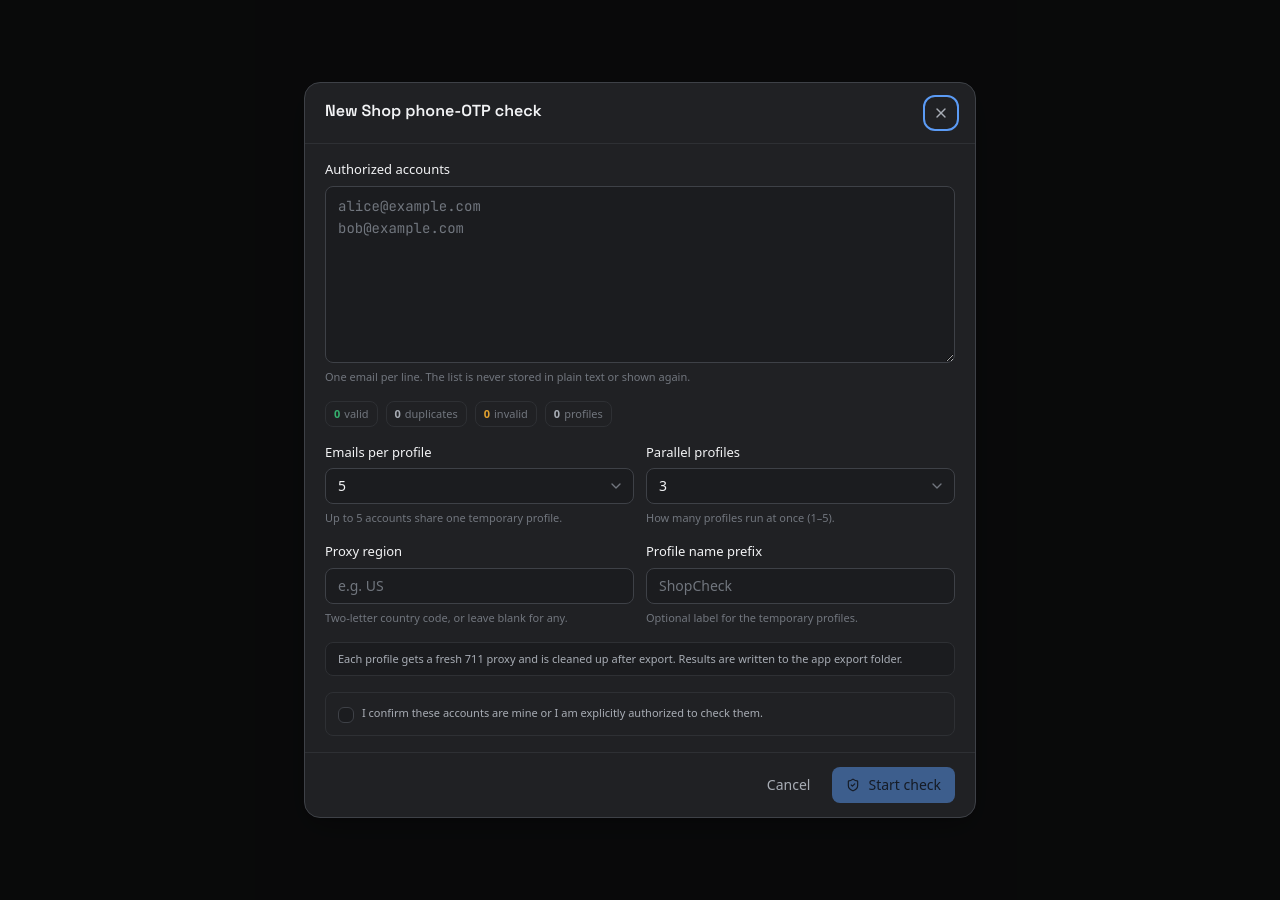
Test case: ShopCheckWizard › keeps start disabled until there are valid emails and the ack is checked
Expected: the button "Start check" is disabled, [832,767,955,803]
Type "a@b.com" into the text box labelled "Authorized accounts" at [640, 274], box [325,186,955,363]
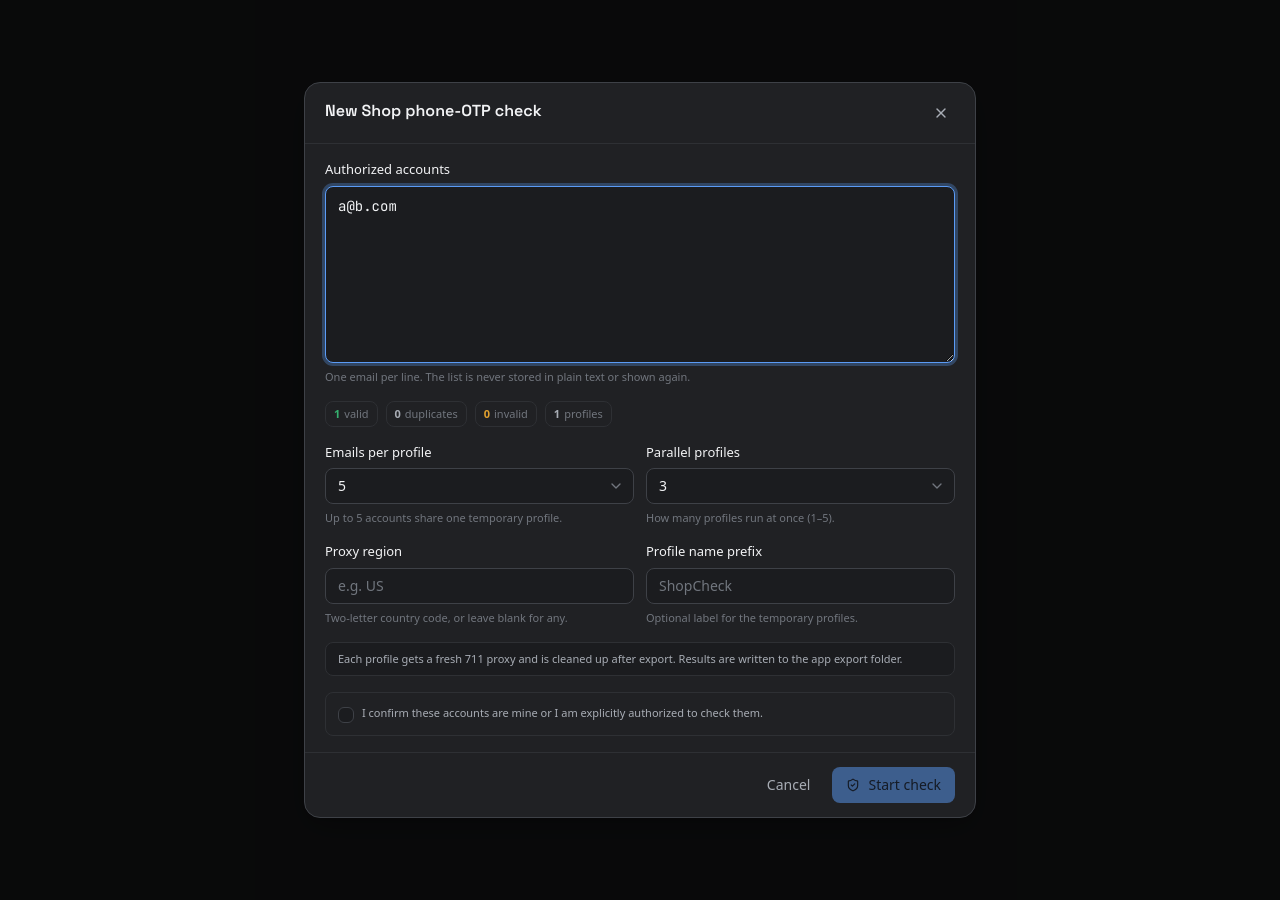
Expected: the button "Start check" is disabled, [832,767,955,803]
Click the checkbox at [346, 715], box [338,707,354,723]
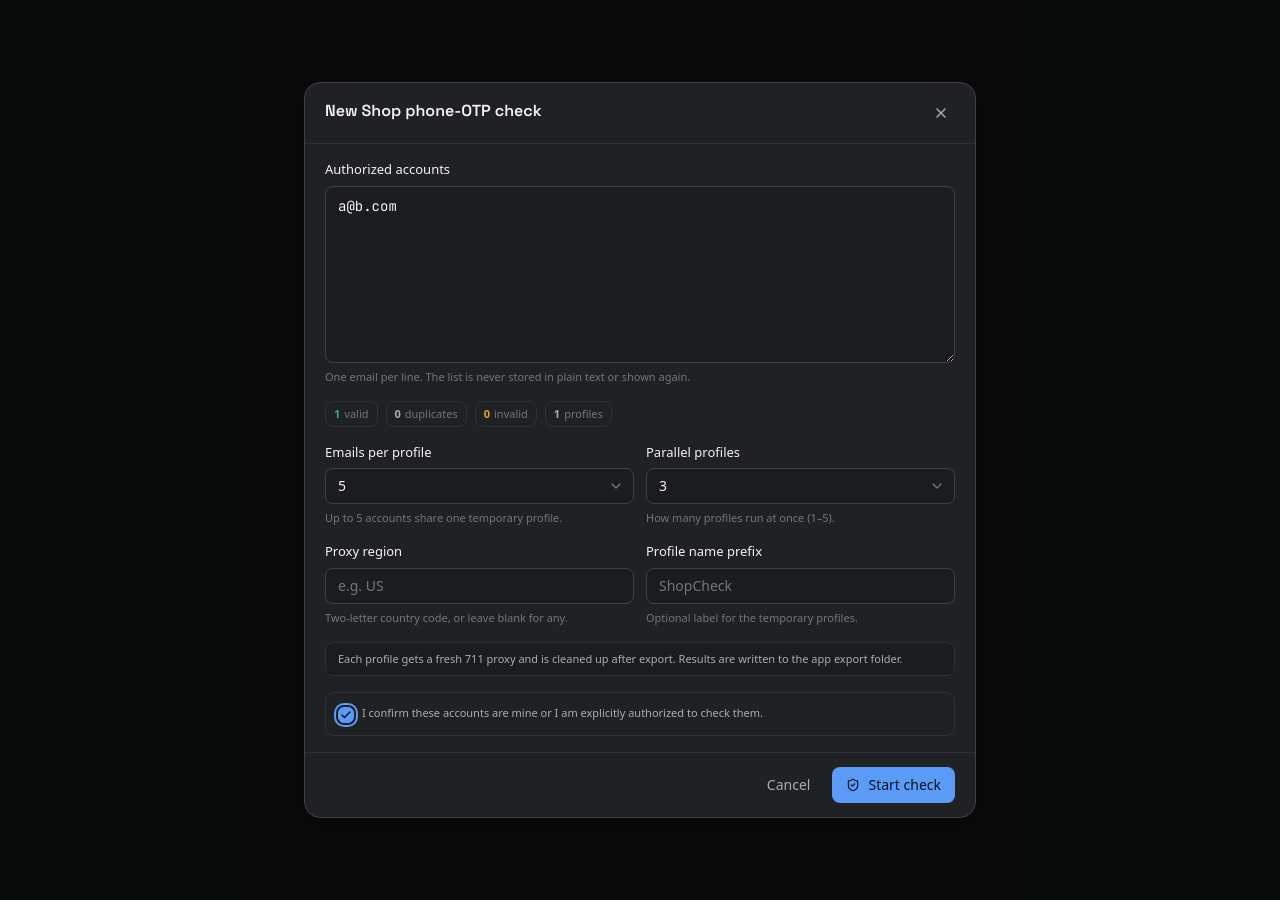
Now the button "Start check" is enabled, box [832,767,955,803]
